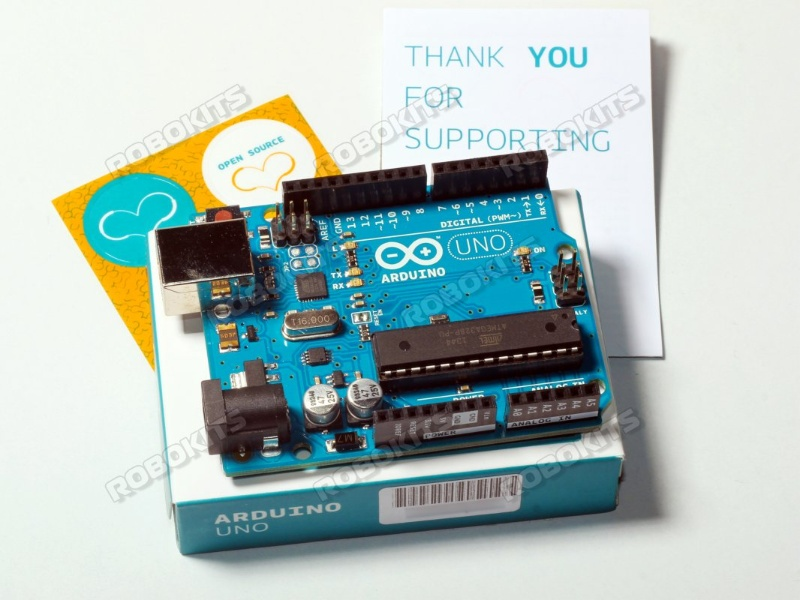uno: (134, 155, 620, 432)
